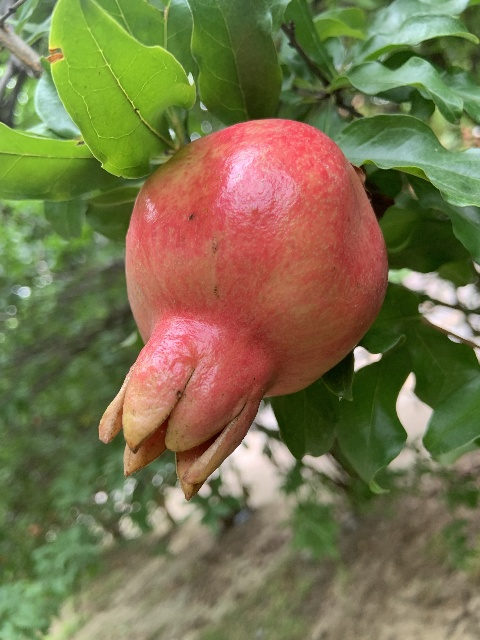ripe: (99, 119, 388, 500)
